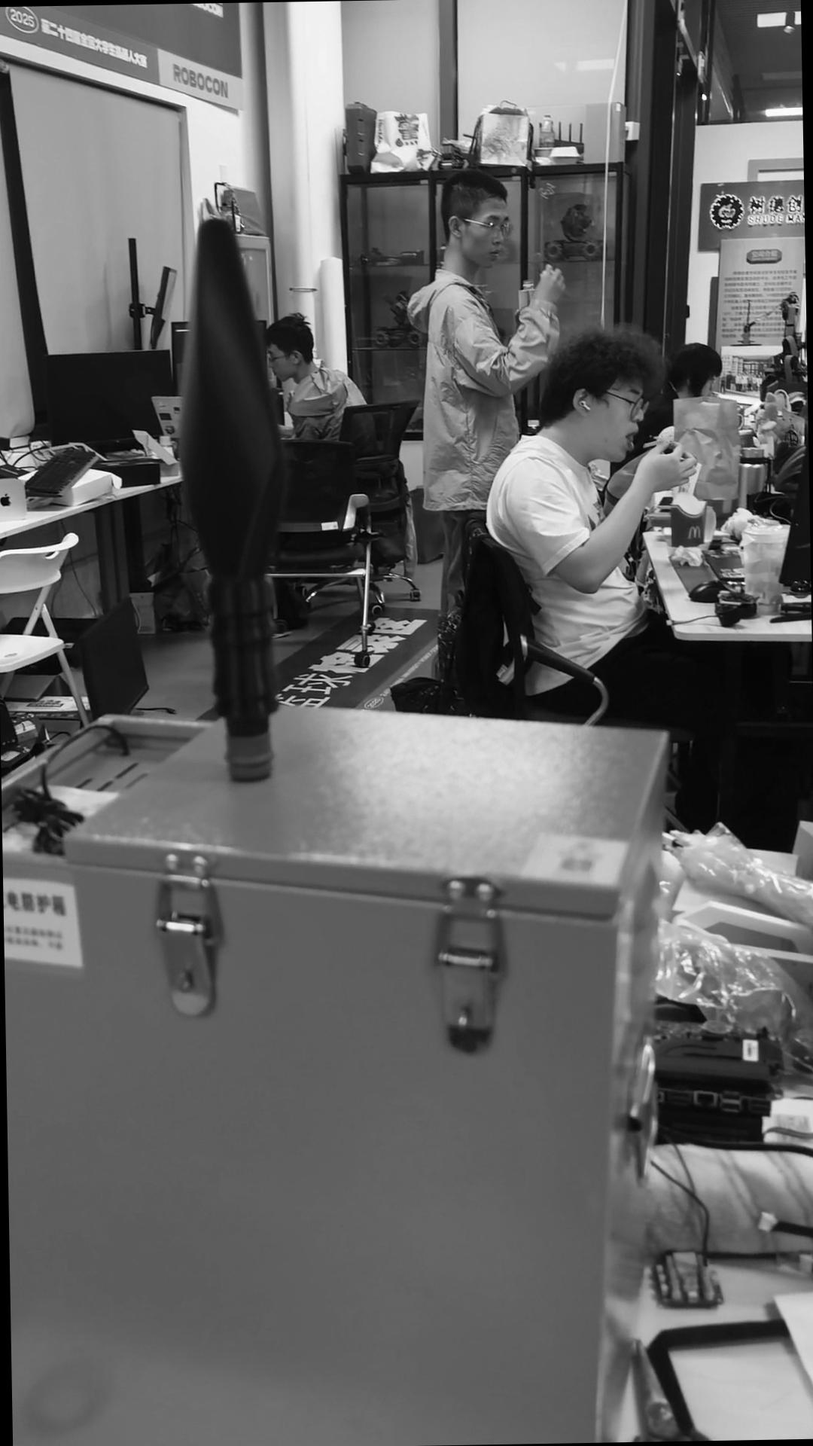base: (222, 729, 274, 784)
